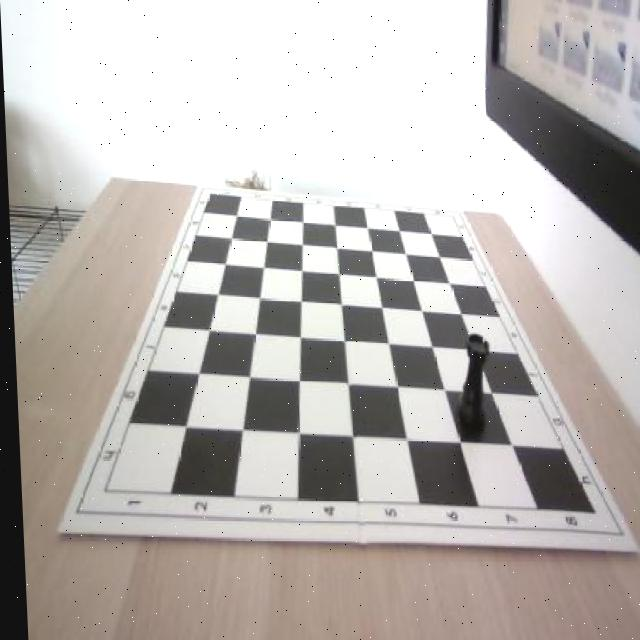black-queen: (450, 332, 491, 440)
